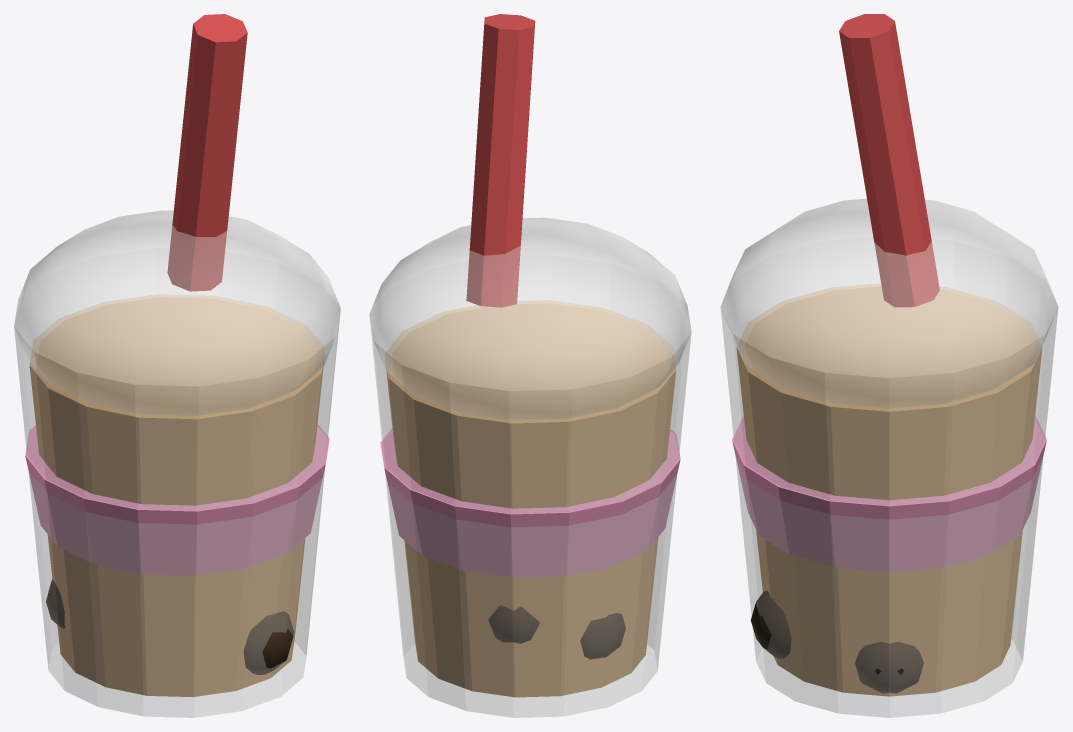
The model's file is boba_tea.glb.
3 renders of one model, left to right at view 1: azimuth 30°, elevation 25°; view 2: azimuth 150°, elevation 25°; view 3: azimuth 270°, elevation 25°, orthographic. The views are drawn at different scales.
Parts seen in each view (by area): view 1: boba_tea_glass, boba_tea_tea, boba_tea_pink, boba_tea_straw, boba_tea_pearl; view 2: boba_tea_glass, boba_tea_tea, boba_tea_pink, boba_tea_straw, boba_tea_pearl; view 3: boba_tea_glass, boba_tea_tea, boba_tea_pink, boba_tea_straw, boba_tea_pearl.
Part boxes in pixels (left/top/right/bottom): boba_tea_glass: left=14, top=210, right=340, bottom=717; boba_tea_tea: left=29, top=294, right=324, bottom=696; boba_tea_pink: left=25, top=424, right=329, bottom=575; boba_tea_straw: left=167, top=14, right=247, bottom=291; boba_tea_pearl: left=46, top=579, right=294, bottom=674; boba_tea_glass: left=369, top=217, right=691, bottom=717; boba_tea_tea: left=385, top=300, right=676, bottom=697; boba_tea_pink: left=380, top=428, right=680, bottom=577; boba_tea_straw: left=466, top=14, right=535, bottom=307; boba_tea_pearl: left=488, top=605, right=625, bottom=659; boba_tea_glass: left=720, top=198, right=1058, bottom=717; boba_tea_tea: left=736, top=283, right=1042, bottom=696; boba_tea_pink: left=732, top=416, right=1046, bottom=572; boba_tea_straw: left=839, top=14, right=939, bottom=307; boba_tea_pearl: left=750, top=591, right=923, bottom=693.
Bounding box in the file's own units: 0.19 × 0.4064 × 0.19.
